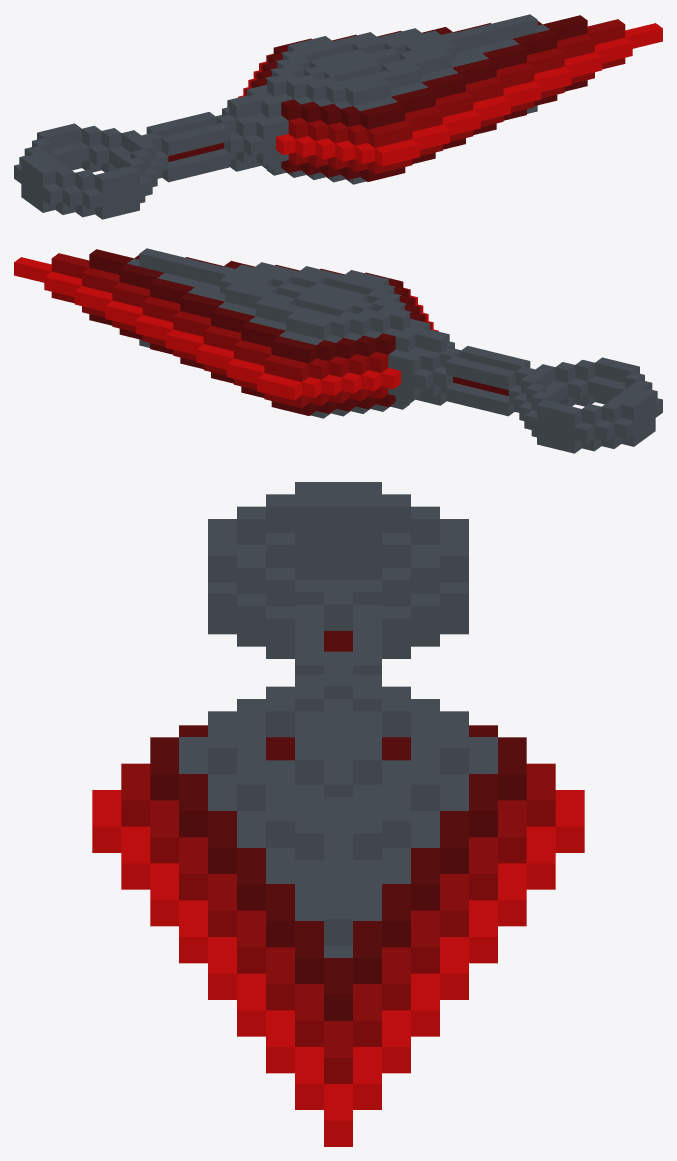
Rendered from 量子苦无-地狱烈火.gltf.
3 views of the same model, one above another, from view 1: azimuth 30°, elevation 25°; view 2: azimuth 150°, elevation 25°; view 3: azimuth 270°, elevation 25° (orthographic). The views are drawn at different scales.
Parts seen in each view (by area): view 1: Object; view 2: Object; view 3: Object.
Part boxes in pixels (box(x1,y1,x2,y2)): Object: box(14, 14, 662, 219); Object: box(14, 248, 662, 453); Object: box(92, 482, 584, 1146).
Size of the model in its own units: 50 by 7 by 17.
1 material, 1 textured.
